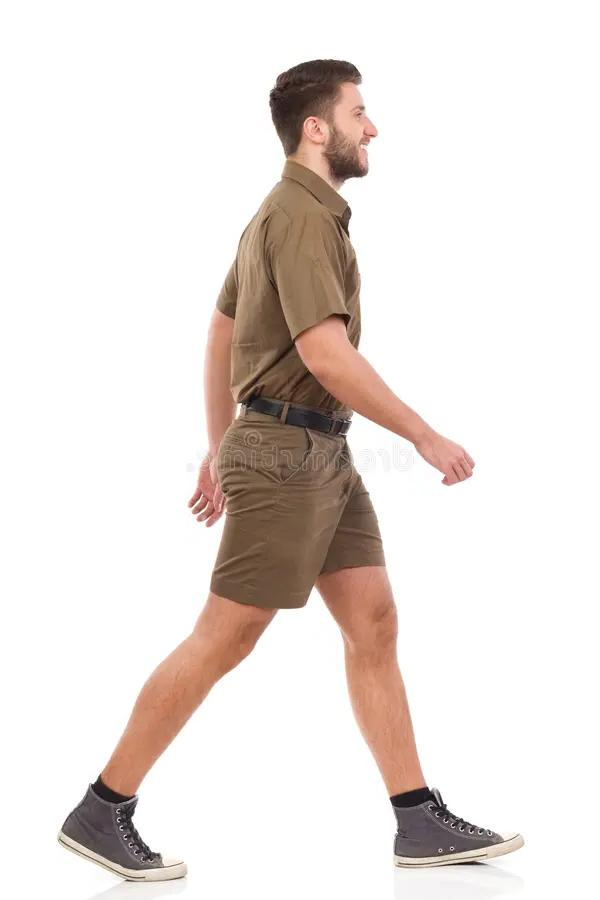Shorts: (206, 402, 391, 614)
short sleeve shirt: (213, 159, 364, 417)
